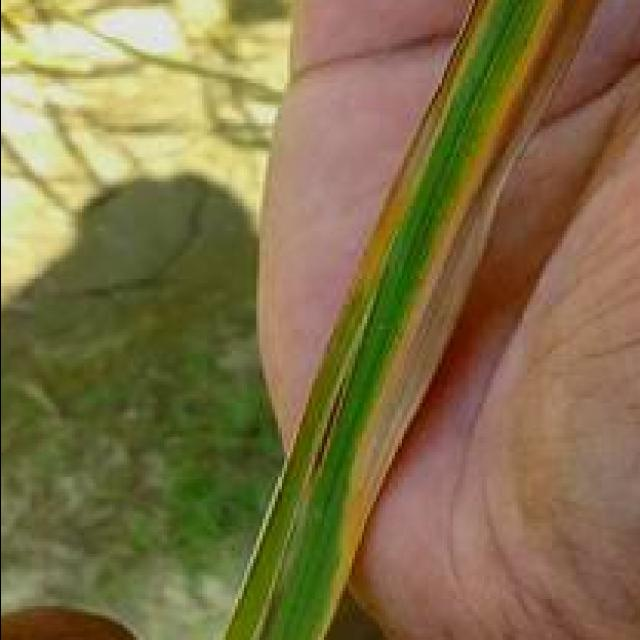Bacterial_Leaf_Blight: (209, 31, 563, 606)
